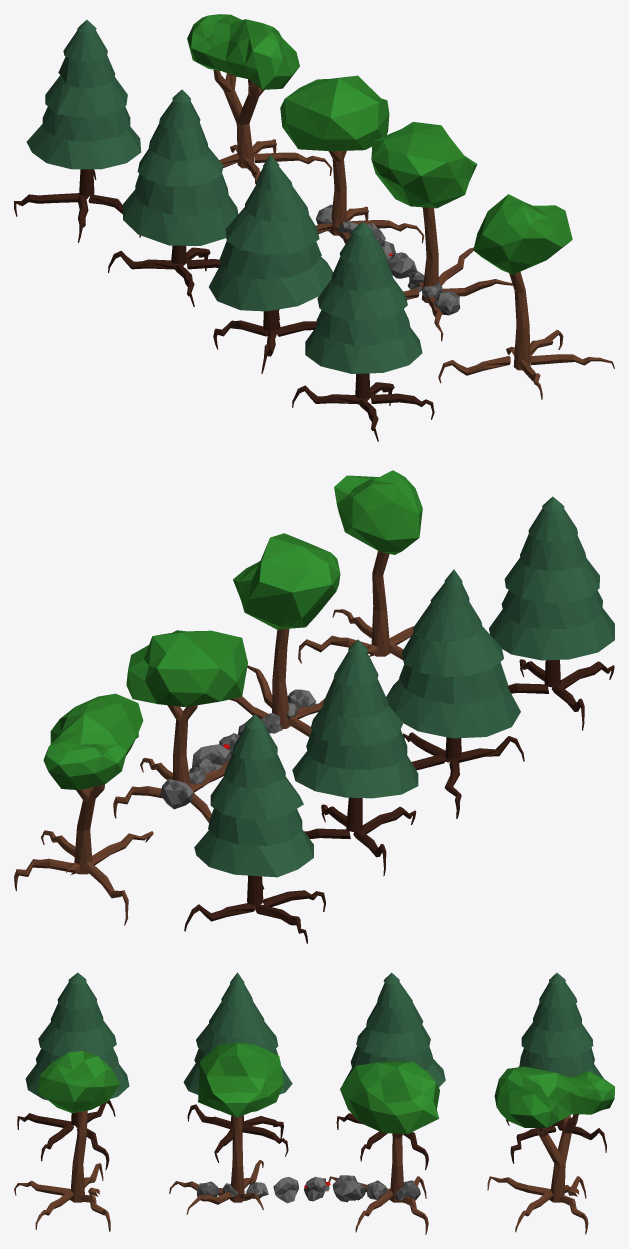
Rendered from EnvironmentAssets.fbx.
3 views of the same model, one above another, from view 1: azimuth 30°, elevation 25°; view 2: azimuth 150°, elevation 25°; view 3: azimuth 270°, elevation 25° (orthographic). The views are drawn at different scales.
Visible parts, largest first — view 1: Pine Tree 2, Pine Tree 1, Pine Tree 3, Pine Tree 4, Generic Tree 2, Generic Tree 4, Generic Tree 3, Generic Tree 1; view 2: Pine Tree 2, Pine Tree 1, Pine Tree 3, Pine Tree 4, Generic Tree 3, Generic Tree 4, Generic Tree 2, Generic Tree 1, Rock 1, Rock 7; view 3: Generic Tree 4, Generic Tree 3, Generic Tree 2, Pine Tree 1, Generic Tree 1, Pine Tree 4, Pine Tree 3, Pine Tree 2, Rock 7, Rock 5, Rock 8.
Part boxes in pixels (<box>): Pine Tree 2: <box>209,154,333,373</box>; Pine Tree 1: <box>292,222,434,441</box>; Pine Tree 3: <box>108,89,238,306</box>; Pine Tree 4: <box>14,20,141,242</box>; Generic Tree 2: <box>371,122,512,341</box>; Generic Tree 4: <box>187,14,332,184</box>; Generic Tree 3: <box>280,75,424,243</box>; Generic Tree 1: <box>438,194,614,399</box>; Pine Tree 2: <box>386,569,524,818</box>; Pine Tree 1: <box>489,496,614,730</box>; Pine Tree 3: <box>292,639,418,876</box>; Pine Tree 4: <box>184,714,325,943</box>; Generic Tree 3: <box>113,630,247,822</box>; Generic Tree 4: <box>14,693,153,925</box>; Generic Tree 2: <box>230,533,340,736</box>; Generic Tree 1: <box>298,470,422,663</box>; Rock 1: <box>160,779,193,809</box>; Rock 7: <box>192,744,231,782</box>; Generic Tree 4: <box>487,1066,614,1234</box>; Generic Tree 3: <box>328,1061,439,1234</box>; Generic Tree 2: <box>169,1042,283,1214</box>; Pine Tree 1: <box>17,972,129,1170</box>; Generic Tree 1: <box>14,1051,120,1231</box>; Pine Tree 4: <box>506,973,606,1163</box>; Pine Tree 3: <box>336,972,445,1170</box>; Pine Tree 2: <box>183,972,292,1162</box>; Rock 7: <box>332,1175,362,1202</box>; Rock 5: <box>273,1177,298,1203</box>; Rock 8: <box>304,1176,329,1201</box>.
Bounding box in the file's own units: 3010 × 1448 × 1005.
